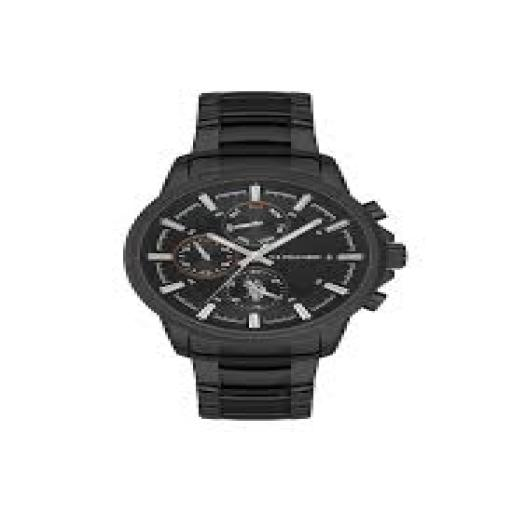KolSaati: (92, 52, 427, 421)
